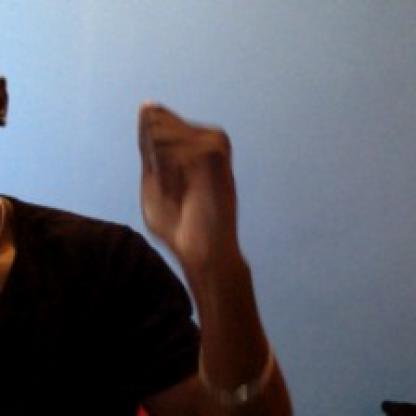BACKWARD: (113, 52, 269, 294)
